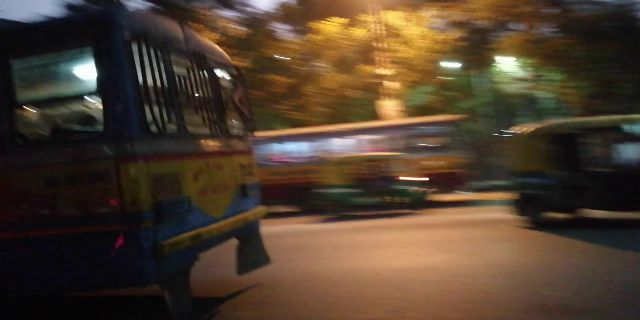Bus: (14, 16, 268, 291), (282, 122, 477, 191)
